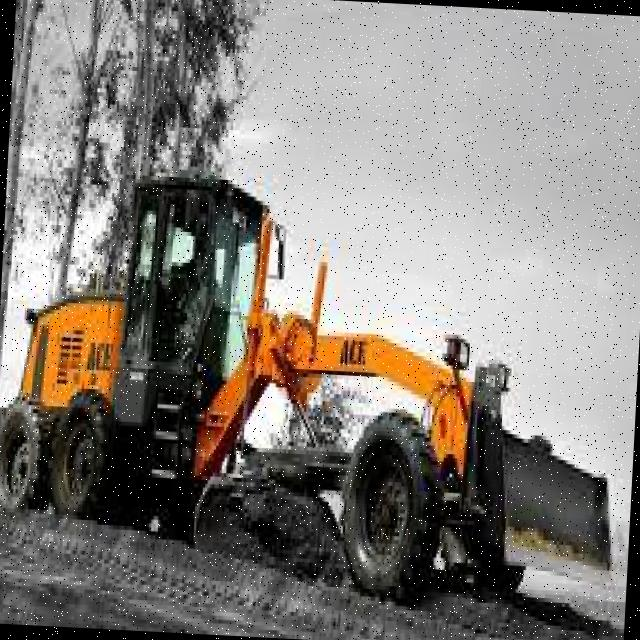Grader: (0, 118, 638, 640)
